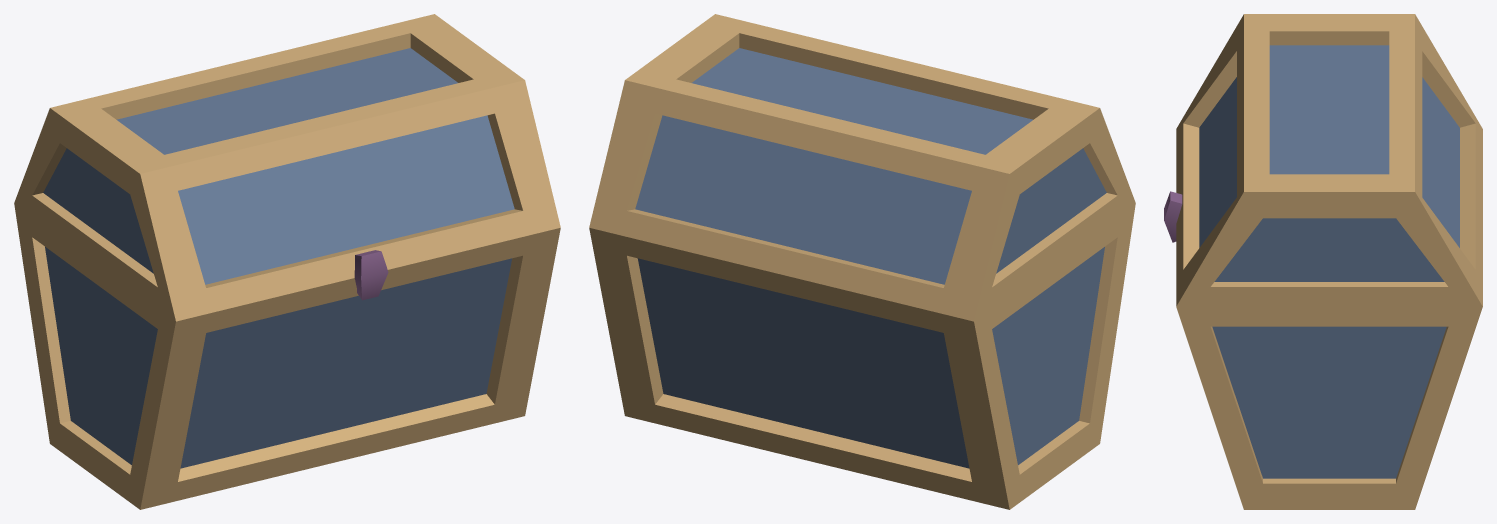
Rendered from Treasure_Chest_Anim.fbx.
3 views of the same model, side by side, from view 1: azimuth 30°, elevation 25°; view 2: azimuth 150°, elevation 25°; view 3: azimuth 270°, elevation 25° (orthographic). The views are drawn at different scales.
Visible parts, largest first — view 1: Lid, Chest_Bottom, Lock; view 2: Lid, Chest_Bottom; view 3: Lid, Chest_Bottom, Lock.
Part boxes in pixels (x1,y1,x2,y2): Lid: [14, 14, 560, 321]; Chest_Bottom: [14, 203, 560, 509]; Lock: [354, 250, 388, 300]; Lid: [589, 14, 1135, 321]; Chest_Bottom: [589, 203, 1135, 509]; Lid: [1176, 14, 1482, 306]; Chest_Bottom: [1176, 306, 1482, 509]; Lock: [1164, 191, 1182, 242].
Size of the model in its own units: 1.5 by 1.25 by 1.14.
